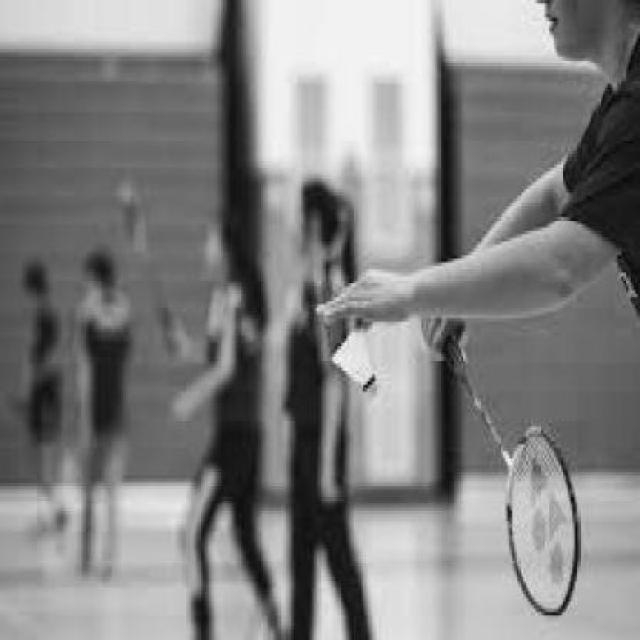Shuttlecock: (332, 326, 382, 400)
